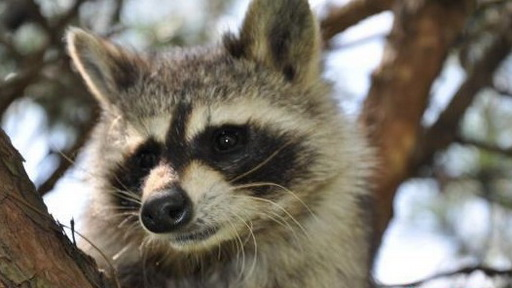raccoon: (60, 1, 372, 288)
